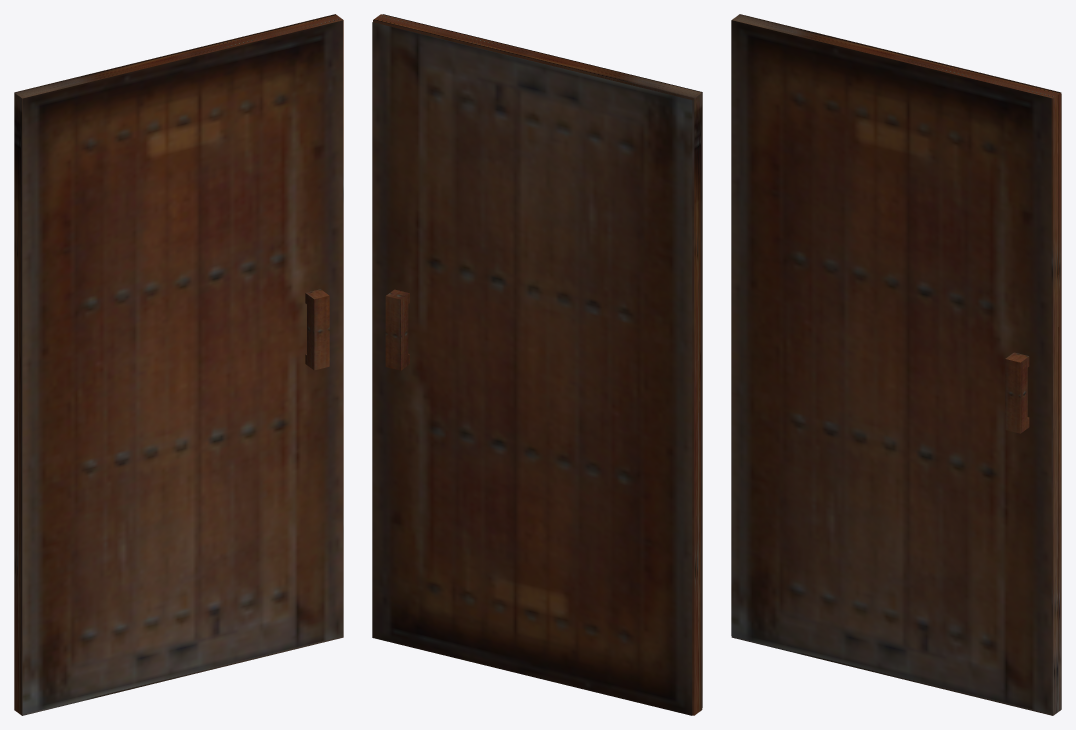
Rendered from build3adoor.gltf.
3 renders of one model, left to right at view 1: azimuth 30°, elevation 25°; view 2: azimuth 150°, elevation 25°; view 3: azimuth 330°, elevation 25°, orthographic.
Visible parts, largest first — view 1: build3adoor; view 2: build3adoor; view 3: build3adoor.
Part boxes in pixels (x1,y1,x2,y2): build3adoor: (14, 14, 343, 715); build3adoor: (372, 14, 702, 715); build3adoor: (731, 14, 1061, 715).
Size of the model in its own units: 1.3 by 2.39 by 0.1869.
Materials: 2 (2 with a texture image).
